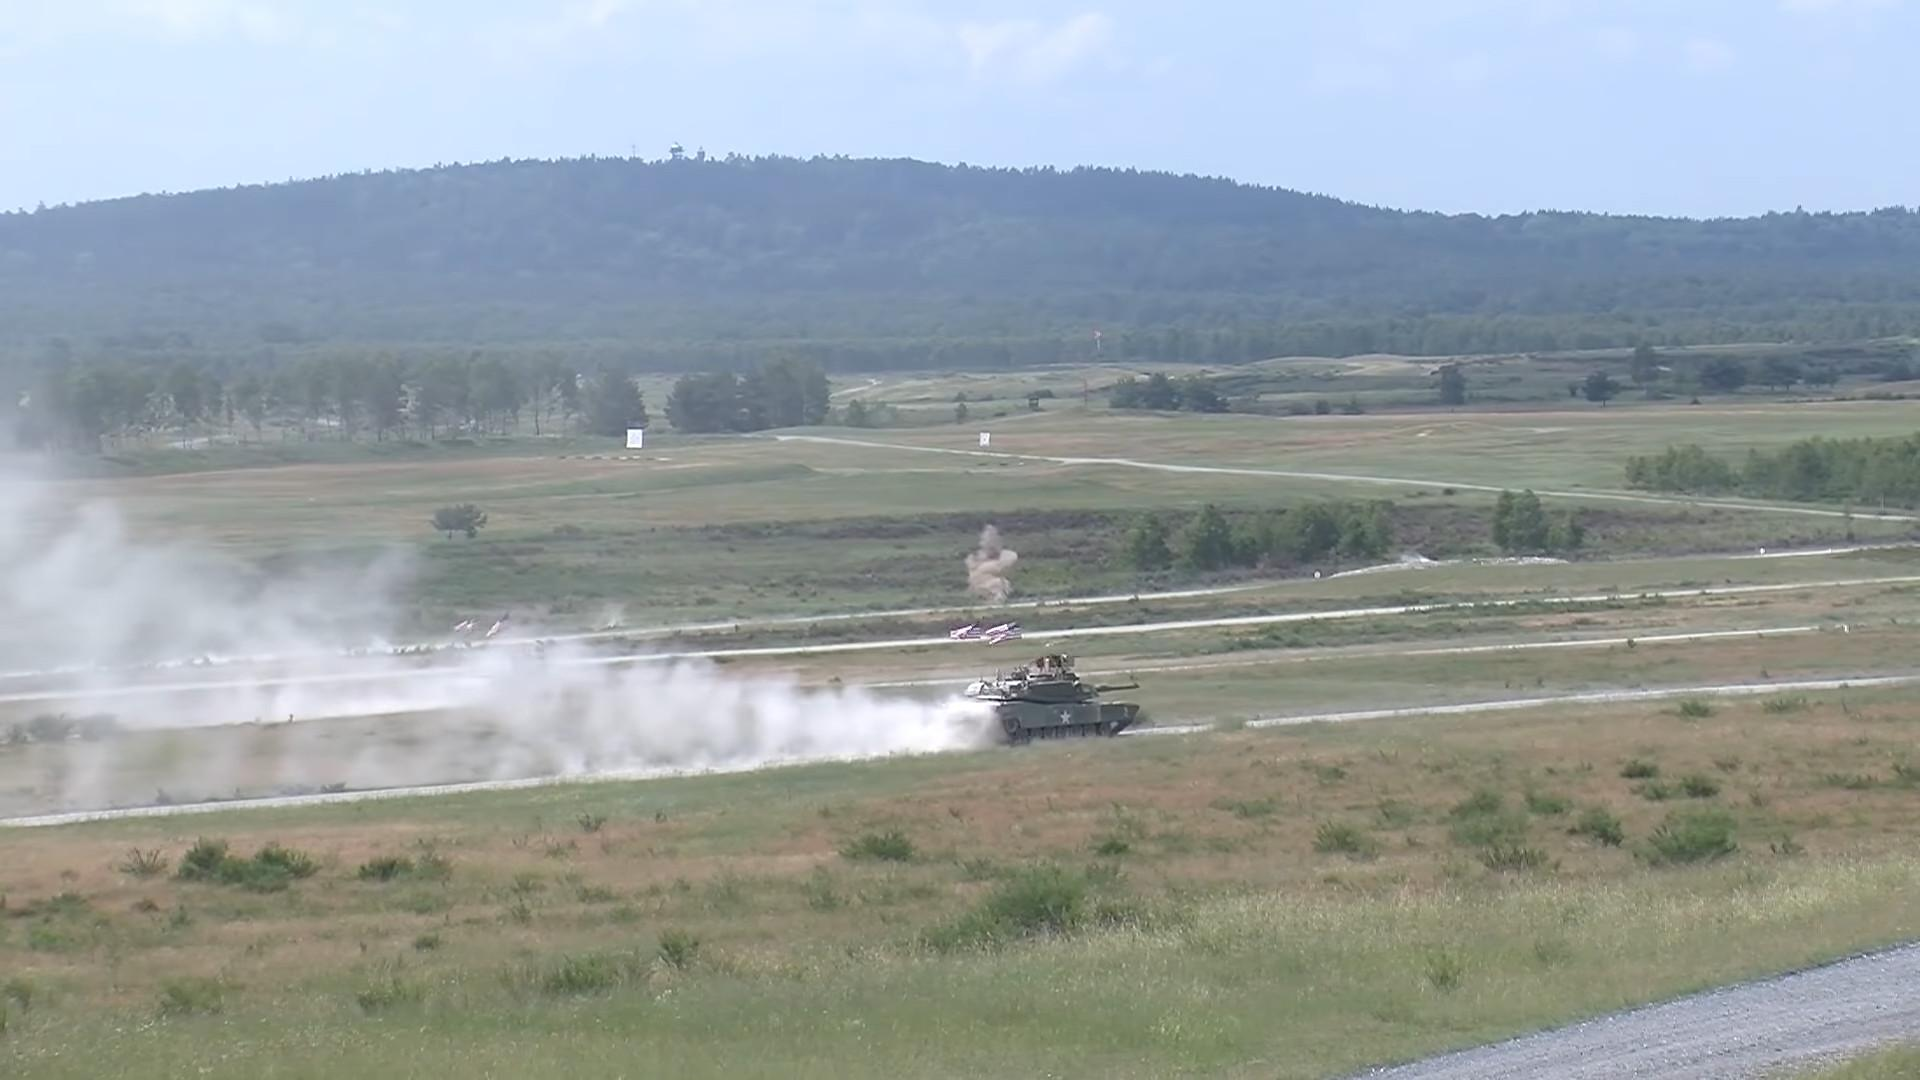tank: (967, 670, 1142, 742)
